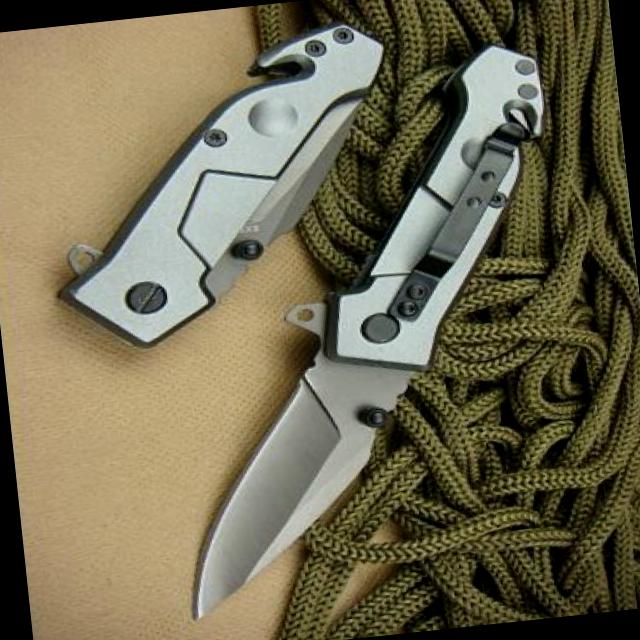knife: (162, 322, 448, 630)
